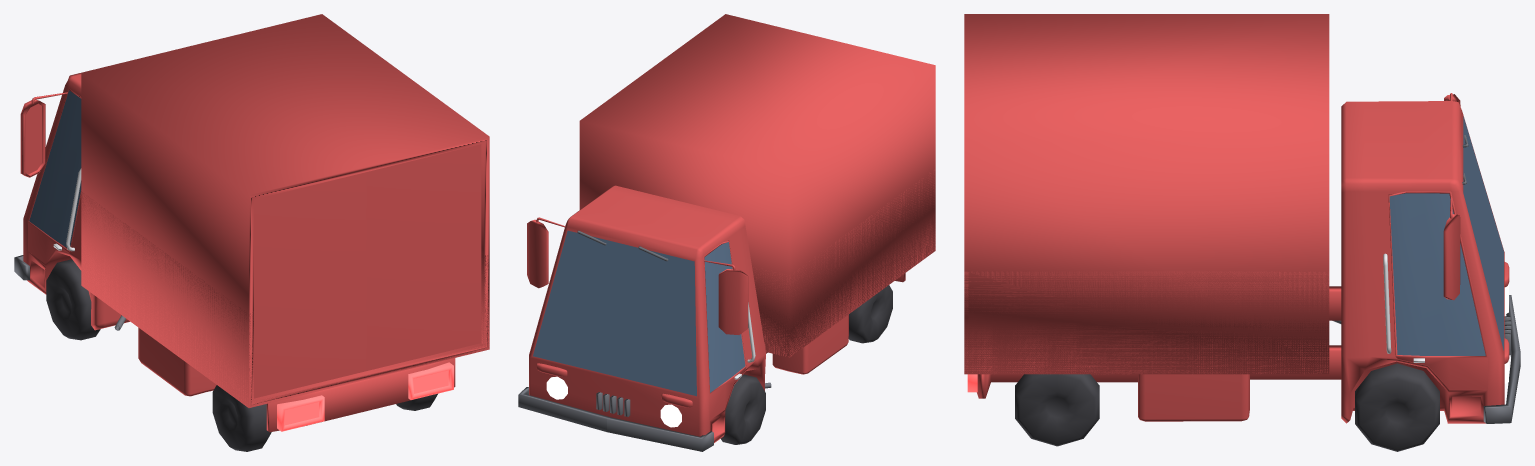
The model's file is cv-truck.glb.
3 views of the same model, side by side, from view 1: azimuth 30°, elevation 25°; view 2: azimuth 150°, elevation 25°; view 3: azimuth 270°, elevation 25° (orthographic). The views are drawn at different scales.
Visible parts, largest first — view 1: ID434, CaseDoorR, CaseDoorL, ID461, Glass, ID15, Cabin, WheelFL, WheelRL, TankL, ID316, ID52 (+3 smaller); view 2: ID434, WindowFront.1, Cabin, ID461, BumperFront, Glass, WheelFL, ID70, TankL, WheelRL, ID124, ID52 (+1 smaller); view 3: ID434, Cabin, ID461, Glass.2, WheelFR, TankR, WheelRR, WindowFront.1, ID106, BumperFront, ID124, ID6 (+1 smaller).
Boxes of the visible parts, x1,y1,x2,y2 form: ID434: (81, 14, 489, 407); CaseDoorR: (366, 144, 481, 370); CaseDoorL: (254, 172, 366, 398); ID461: (81, 191, 489, 407); Glass: (29, 90, 81, 247); ID15: (266, 358, 455, 432); Cabin: (23, 73, 129, 330); WheelFL: (46, 259, 100, 340); WheelRL: (212, 385, 271, 451); TankL: (138, 327, 216, 396); ID316: (277, 362, 453, 431); ID52: (28, 88, 81, 263); ID434: (579, 14, 935, 357); WindowFront.1: (533, 230, 696, 396); Cabin: (529, 185, 765, 442); ID461: (753, 169, 935, 357); BumperFront: (518, 387, 713, 451); Glass: (704, 242, 745, 392); WheelFL: (720, 374, 765, 444); ID70: (718, 269, 748, 334); TankL: (772, 314, 848, 374); WheelRL: (848, 285, 892, 343); ID124: (527, 219, 548, 288); ID52: (703, 240, 746, 420); ID434: (964, 14, 1329, 374); Cabin: (1341, 101, 1504, 423); ID461: (964, 271, 1329, 373); Glass.2: (1389, 193, 1485, 355); WheelFR: (1355, 363, 1439, 451); TankR: (1138, 374, 1249, 421); WheelRR: (1015, 374, 1099, 446); WindowFront.1: (1463, 116, 1503, 350); ID106: (1388, 191, 1487, 389); BumperFront: (1483, 295, 1520, 423); ID124: (1443, 214, 1460, 300); ID6: (1250, 286, 1341, 379).
Bounding box in the file's own units: 2.5 × 2.77 × 4.36.
